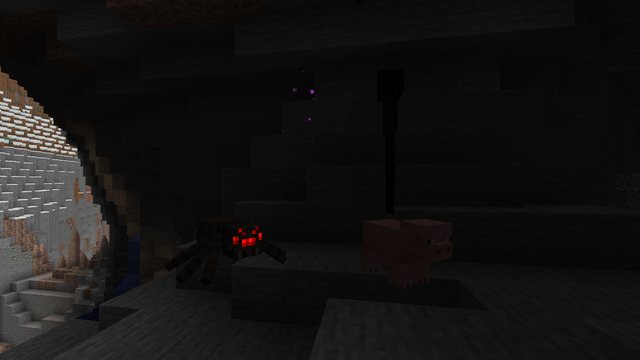araignees: (170, 212, 277, 282)
cochons: (368, 218, 430, 288)
endermens: (374, 62, 406, 211)
